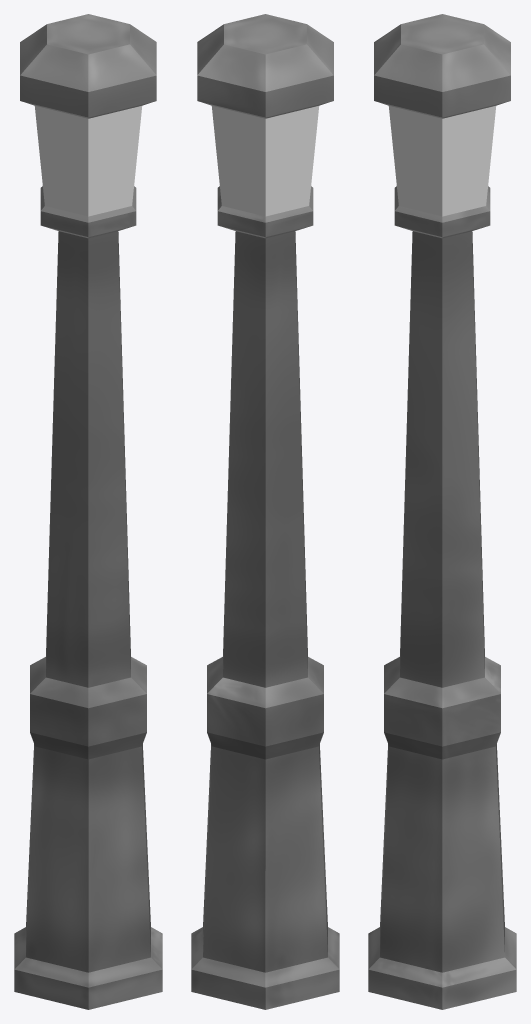
Rendered from street lamp.FBX.
3 views of the same model, side by side, from view 1: azimuth 30°, elevation 25°; view 2: azimuth 150°, elevation 25°; view 3: azimuth 270°, elevation 25° (orthographic).
Visible parts, largest first — view 1: Cylinder003; view 2: Cylinder003; view 3: Cylinder003.
Part boxes in pixels (bbox=[...]): Cylinder003: bbox=[14, 14, 162, 1009]; Cylinder003: bbox=[191, 14, 339, 1009]; Cylinder003: bbox=[368, 14, 516, 1009].
Bounding box in the file's own units: 7.94 × 48.11 × 6.87.
1 material, 1 textured.
